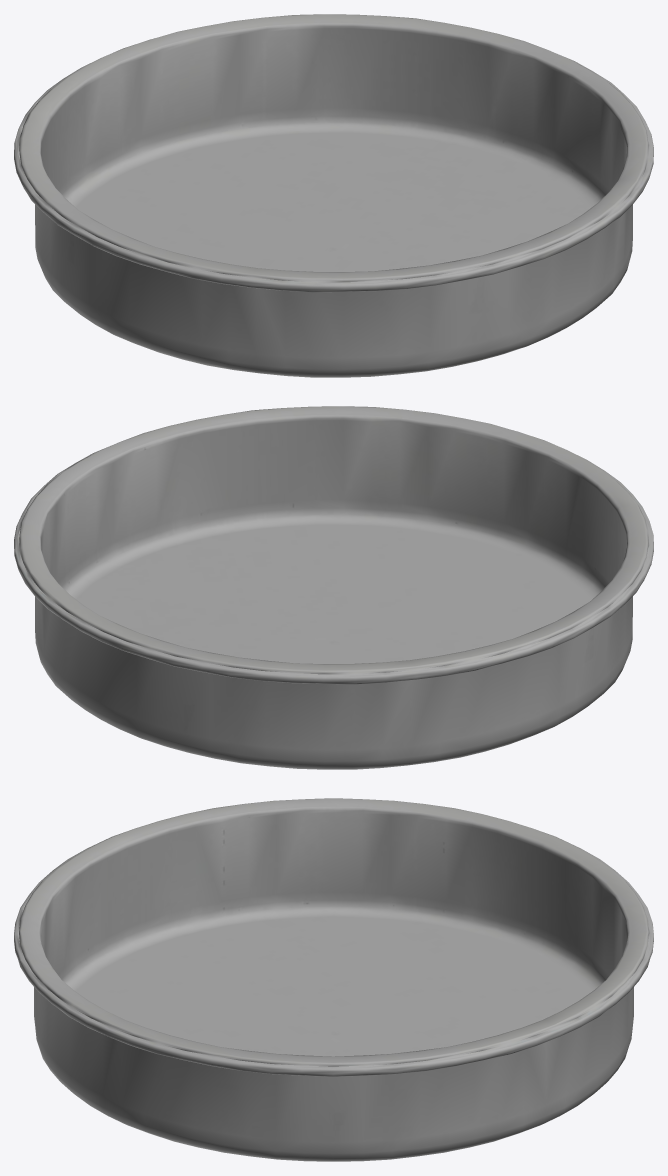
File: selected.glb
The picture shows the model from 3 angles, top to bottom: view 1: azimuth 30°, elevation 25°; view 2: azimuth 150°, elevation 25°; view 3: azimuth 270°, elevation 25°; orthographic projection.
Parts seen in each view (by area): view 1: tripo_node_bb98c671-2faa-4856-aec8-5801ff91a85a; view 2: tripo_node_bb98c671-2faa-4856-aec8-5801ff91a85a; view 3: tripo_node_bb98c671-2faa-4856-aec8-5801ff91a85a.
Part boxes in pixels (x1=…): tripo_node_bb98c671-2faa-4856-aec8-5801ff91a85a: x1=14, y1=14, x2=653, y2=377; tripo_node_bb98c671-2faa-4856-aec8-5801ff91a85a: x1=14, y1=406, x2=653, y2=769; tripo_node_bb98c671-2faa-4856-aec8-5801ff91a85a: x1=14, y1=798, x2=653, y2=1161.
Size of the model in its own units: 0.998 by 0.1895 by 0.998.
1 material, 1 textured.
